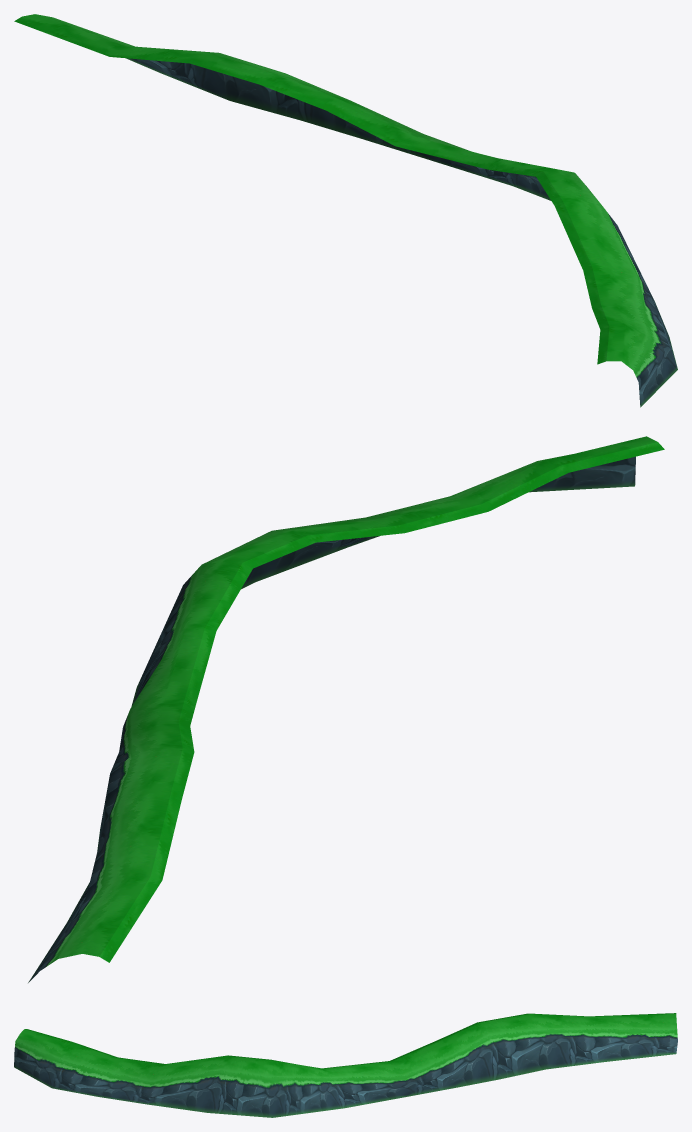
File: rc_01_bud_07.FBX
The picture shows the model from 3 angles, top to bottom: view 1: azimuth 30°, elevation 25°; view 2: azimuth 150°, elevation 25°; view 3: azimuth 270°, elevation 25°; orthographic projection. The views are drawn at different scales.
Parts seen in each view (by area): view 1: 对象014; view 2: 对象014; view 3: 对象014.
Part boxes in pixels (bbox=[...]): 对象014: bbox=[14, 14, 677, 407]; 对象014: bbox=[28, 436, 664, 982]; 对象014: bbox=[14, 1013, 677, 1117].
Size of the model in its own units: 4377 by 14631 by 1002.
